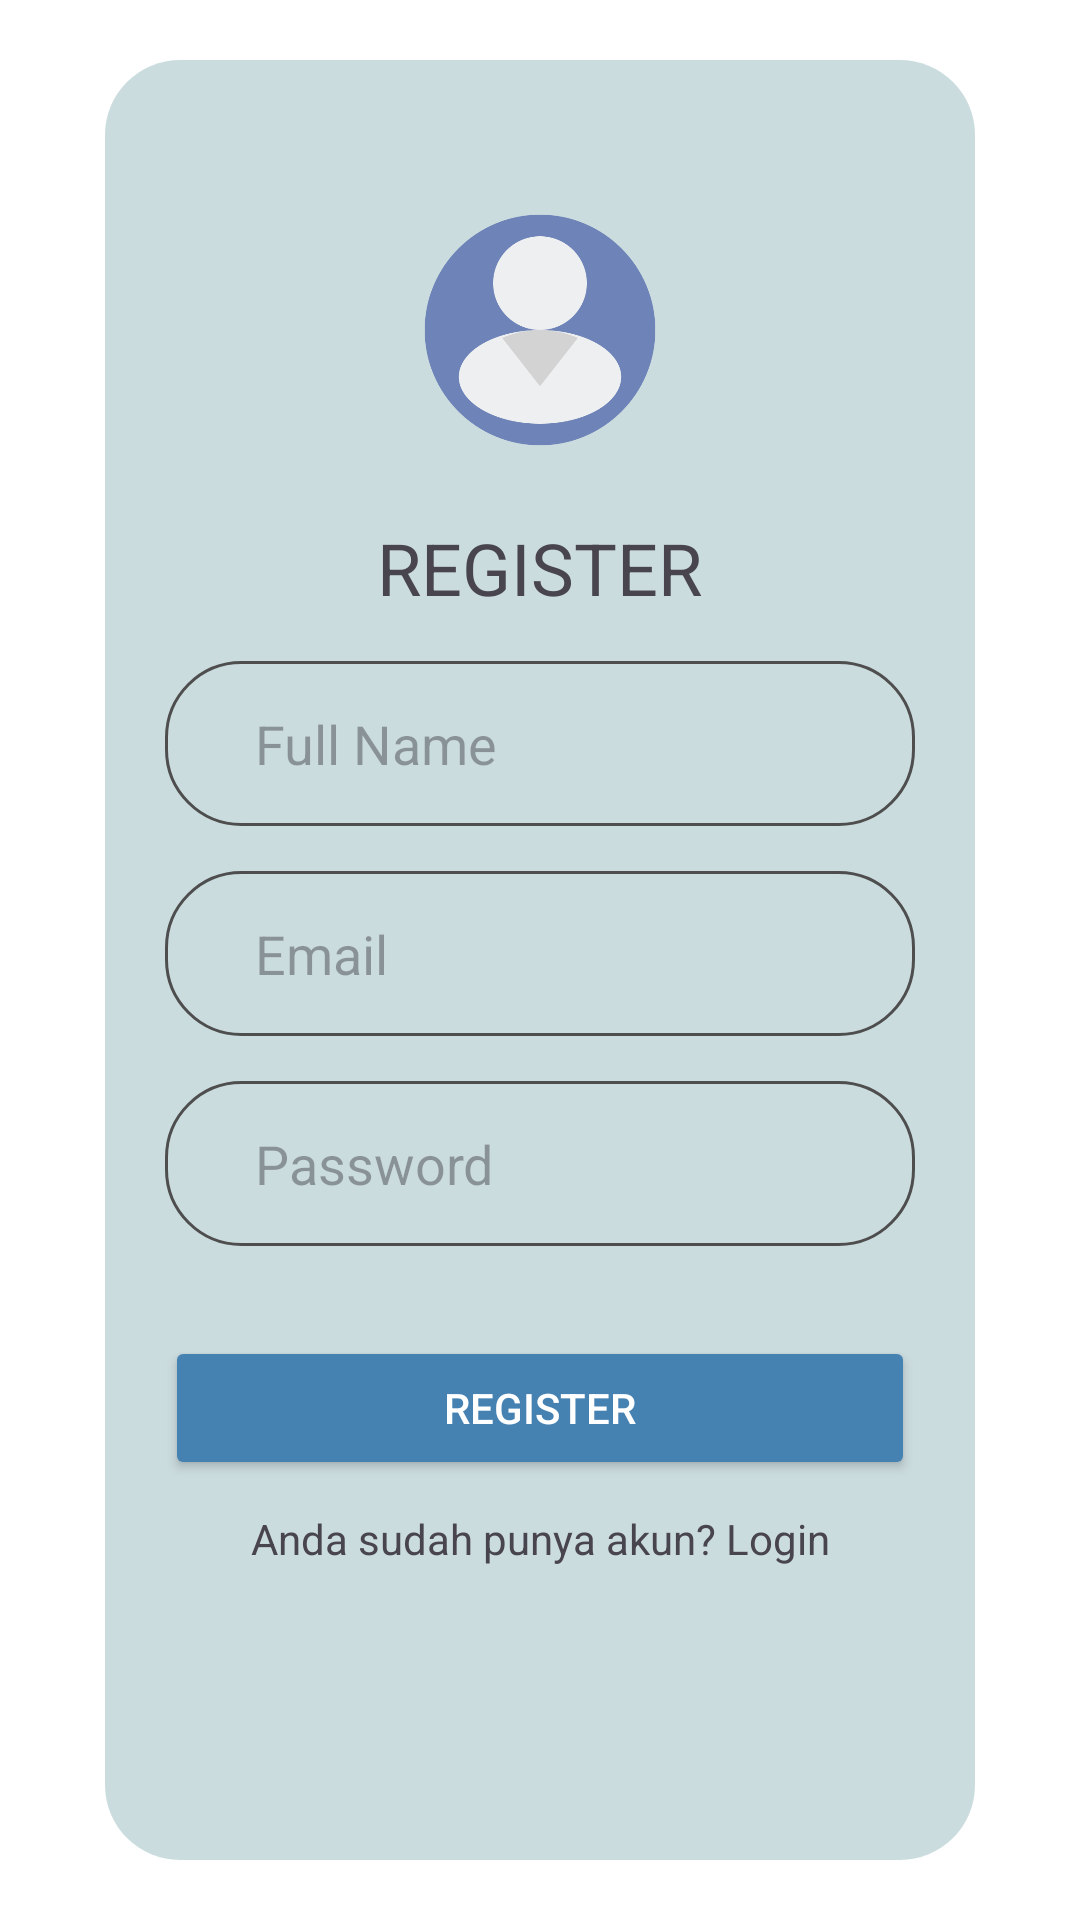

Screen size 1080 × 1920. Icon name, then its center in pixels as (x,y):
user: (540,330)
